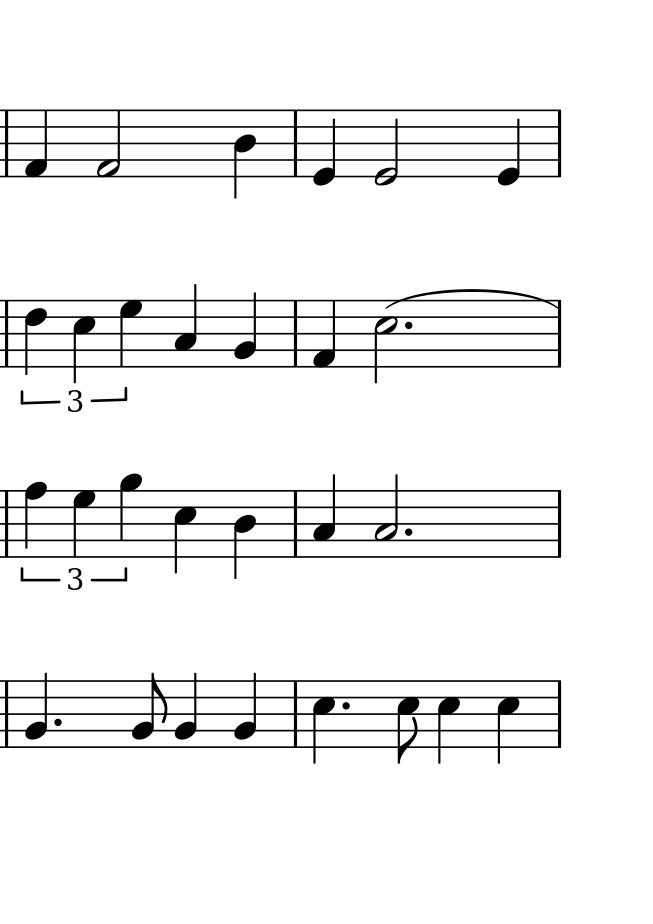2_0: (373, 109, 400, 187)
2_1: (95, 107, 122, 179)
2_2: (374, 476, 399, 555)
2_5: (373, 301, 398, 382)
4_0: (495, 107, 523, 189), (311, 108, 338, 188)
4_1: (23, 107, 50, 179), (311, 299, 337, 370)
4_2: (173, 671, 199, 750), (233, 290, 258, 370), (233, 671, 258, 750), (24, 671, 49, 749)
4_3: (173, 284, 199, 367), (312, 474, 337, 558)
4_4: (232, 109, 257, 199), (233, 489, 257, 580)
4_5: (172, 491, 199, 575), (436, 678, 460, 767), (311, 680, 335, 766), (72, 298, 95, 386), (496, 679, 519, 767)
4_6: (23, 298, 47, 375)
4_7: (118, 299, 144, 368), (71, 489, 96, 558)
4_8: (22, 480, 47, 560)
4_9: (118, 472, 141, 559)
8_2: (131, 672, 167, 748)
8_5: (395, 680, 421, 763)
Single_barline: (549, 489, 568, 558), (549, 109, 567, 180), (286, 298, 304, 368), (286, 681, 305, 747), (550, 680, 568, 747), (287, 110, 303, 177), (287, 492, 304, 555), (1, 680, 15, 747), (1, 108, 14, 178), (1, 489, 14, 558), (1, 301, 15, 364)
Slur: (382, 289, 560, 311)
dot: (402, 523, 416, 539), (338, 699, 353, 713), (402, 318, 415, 334), (51, 715, 63, 730)
